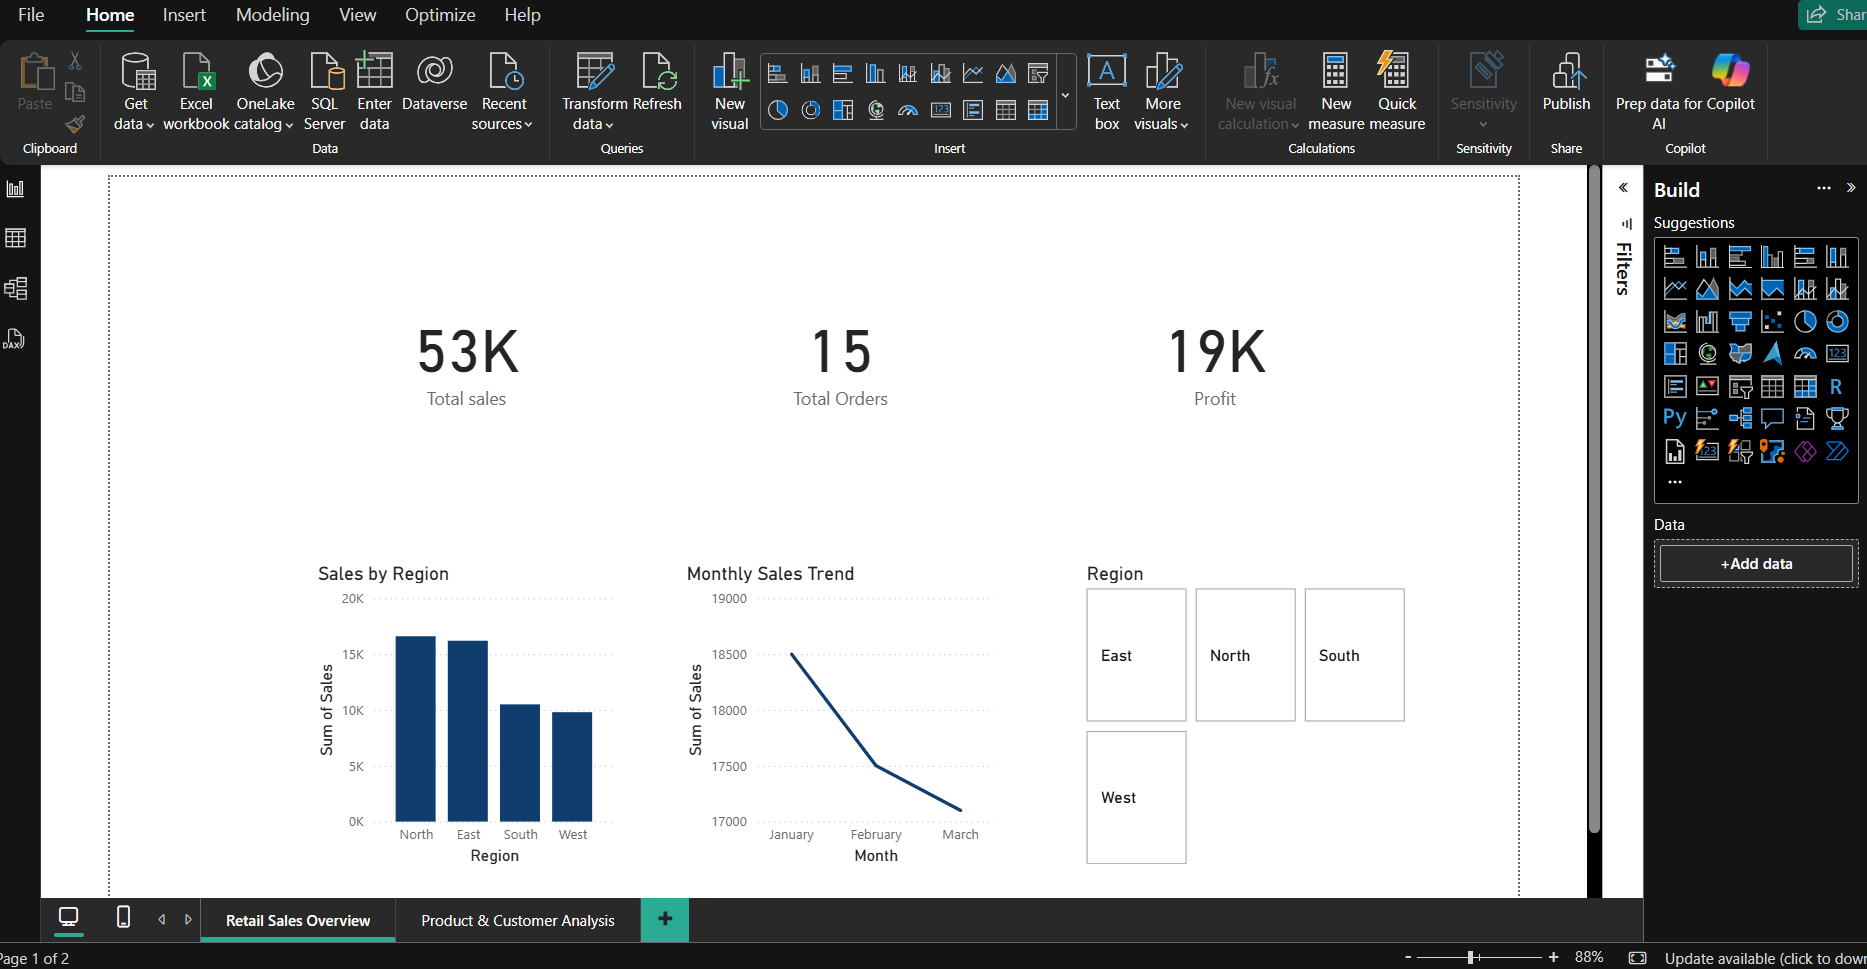

This screenshot's page, from the dashboard's own definition file:
{"tool":"powerbi","page":{"name":"Retail Sales Overview","canvas":[1280,720],"ordinal":0},"visuals":[{"type":"clusteredColumnChart","title":" Sales by Region","fields":{"Y":["Sum(Sales_Data.Sales)"],"Category":["Sales_Data.Region"]},"box":[183.8,350,280,280],"z":0},{"type":"lineChart","title":" Monthly Sales Trend","fields":{"Y":["Sum(Sales_Data.Sales)"],"Category":["Sales_Data.OrderDate.Variation.Date Hierarchy.Month"]},"box":[518.8,350,290,280],"z":1000},{"type":"card","fields":{"Values":["Customer_Data.Total sales"]},"box":[183.8,22.5,280,280],"z":1002},{"type":"card","fields":{"Values":["Customer_Data.Total Orders"]},"box":[518.8,22.5,290,280],"z":1003},{"type":"card","fields":{"Values":["Customer_Data.Profit"]},"box":[865,22.5,280,280],"z":1004},{"type":"advancedSlicerVisual","fields":{"Values":["Sales_Data.Region"]},"box":[883,350,300,280.7],"z":1005}]}

Visuals, with their boxes on the page's 1280x720 design canvas (x1, y1, x2, y2). These are canvas units, not pixel positions in the 1867x969 screenshot, which may show the page scaled, cropped or inside an application window:
" Sales by Region" clusteredColumnChart: [184, 350, 464, 630]
" Monthly Sales Trend" lineChart: [519, 350, 809, 630]
card - Customer_Data.Total sales: [184, 22, 464, 302]
card - Customer_Data.Total Orders: [519, 22, 809, 302]
card - Customer_Data.Profit: [865, 22, 1145, 302]
advancedSlicerVisual - Sales_Data.Region: [883, 350, 1183, 631]
